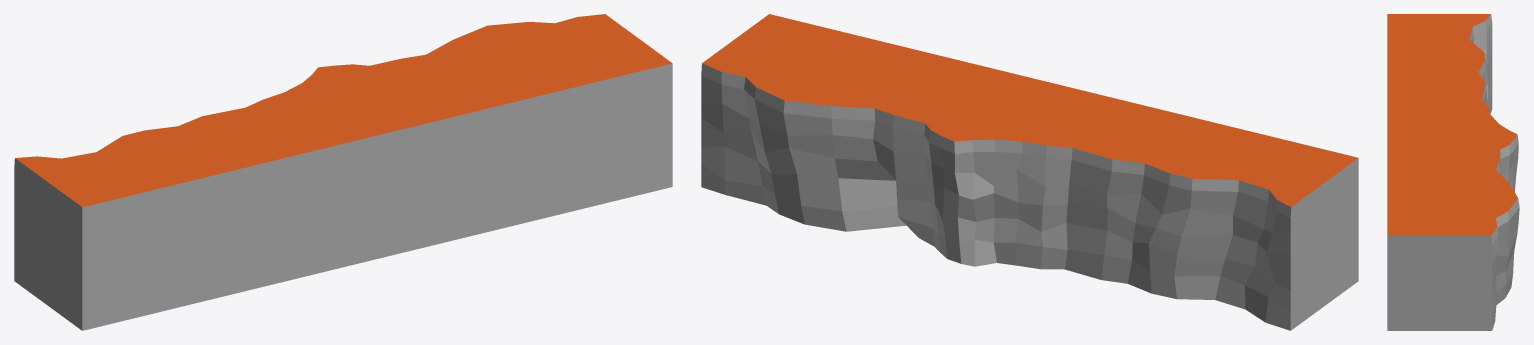
Rendered from Cliff_1.fbx.
3 views of the same model, side by side, from view 1: azimuth 30°, elevation 25°; view 2: azimuth 150°, elevation 25°; view 3: azimuth 270°, elevation 25° (orthographic). The views are drawn at different scales.
Parts seen in each view (by area): view 1: Plane; view 2: Plane; view 3: Plane.
Part boxes in pixels (left/top/right/bottom): Plane: left=14, top=14, right=672, bottom=330; Plane: left=701, top=14, right=1358, bottom=330; Plane: left=1387, top=14, right=1519, bottom=330.
Bounding box in the file's own units: 100 × 20 × 25.24.
